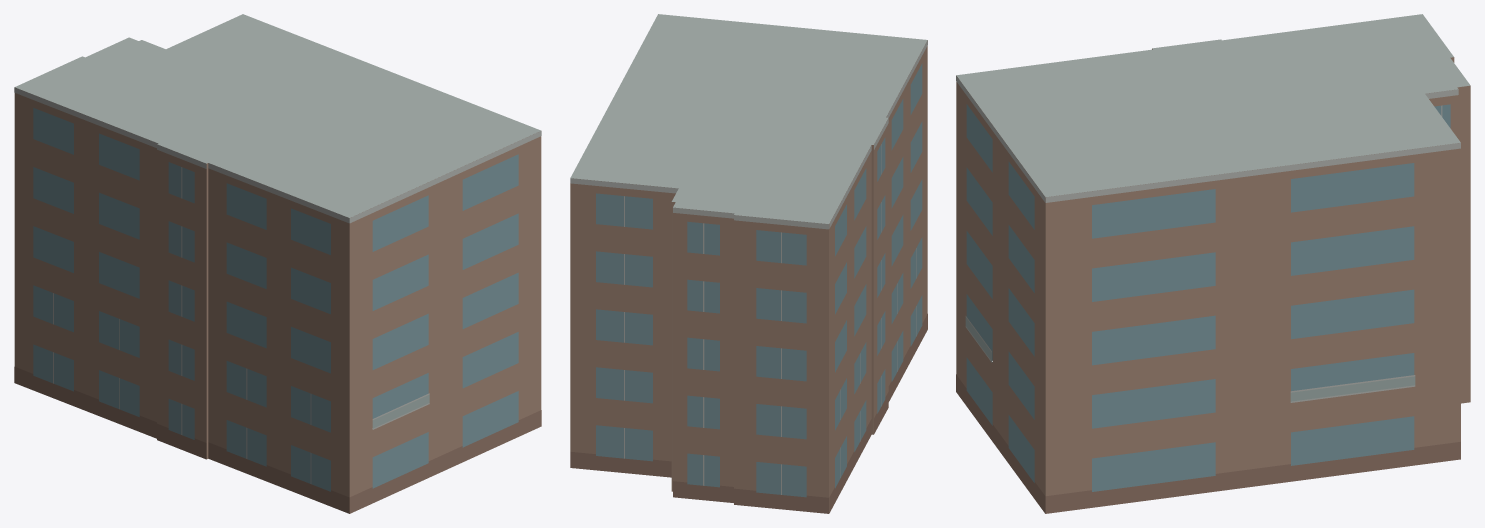
Rendered from survey-upis-32608174.glb.
The picture shows the model from 3 angles, left to right: view 1: azimuth 30°, elevation 25°; view 2: azimuth 150°, elevation 25°; view 3: azimuth 270°, elevation 25°; orthographic projection. The views are drawn at different scales.
Parts seen in each view (by area): view 1: survey-upis-32608174.tmp; view 2: survey-upis-32608174.tmp; view 3: survey-upis-32608174.tmp.
Boxes of the visible parts, x1,y1,x2,y2 form: survey-upis-32608174.tmp: (14,14,541,513); survey-upis-32608174.tmp: (570,14,927,513); survey-upis-32608174.tmp: (956,14,1470,513).
Size of the model in its own units: 16.51 by 13.3 by 19.6.
